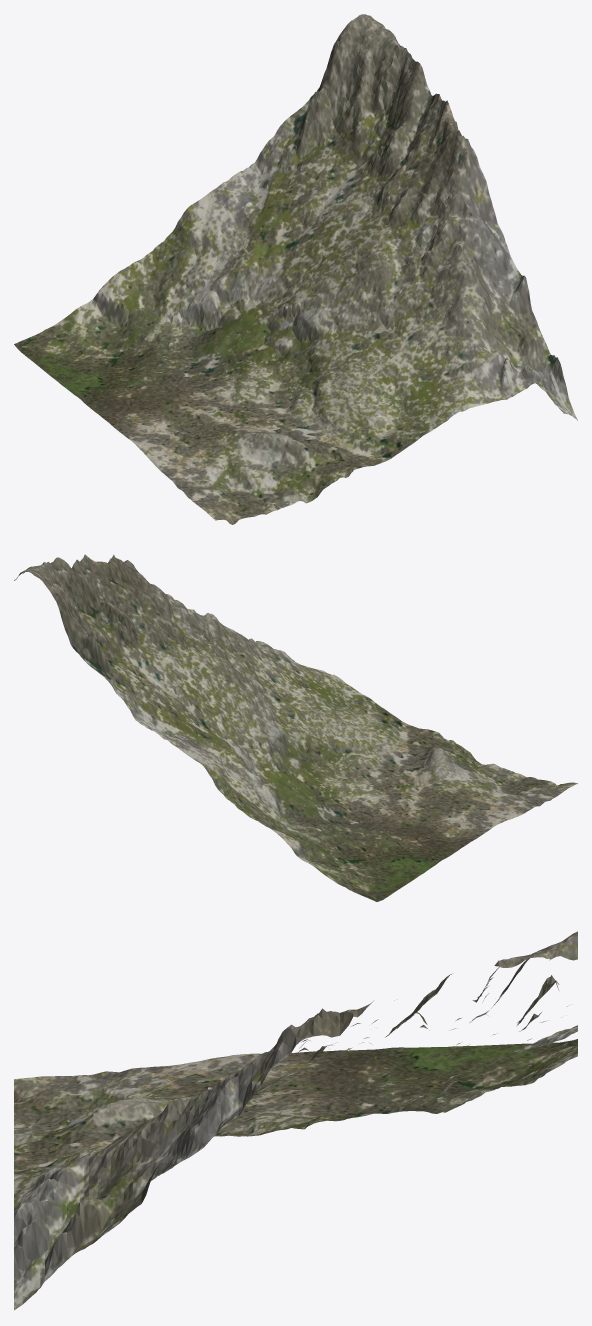
3 views of the same model, one above another, from view 1: azimuth 30°, elevation 25°; view 2: azimuth 150°, elevation 25°; view 3: azimuth 270°, elevation 25° (orthographic). The views are drawn at different scales.
Bounding box in the file's own units: 500 × 373 × 481.
Materials: 1 (1 with a texture image).
